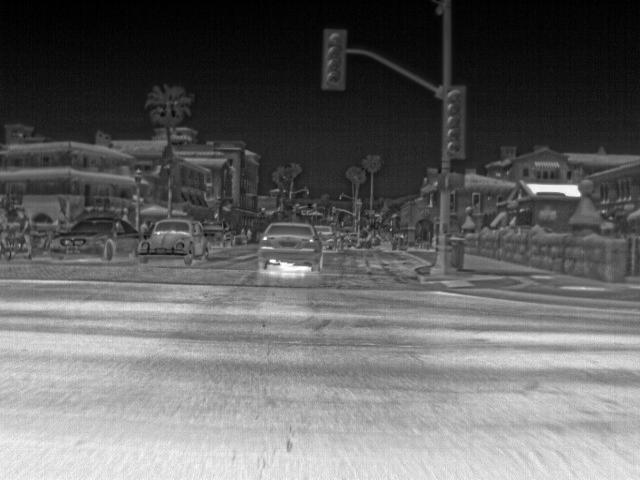car: (47, 216, 144, 260), (255, 221, 326, 272), (137, 218, 206, 266), (202, 220, 234, 248), (310, 222, 336, 251)
person: (15, 208, 34, 260)
